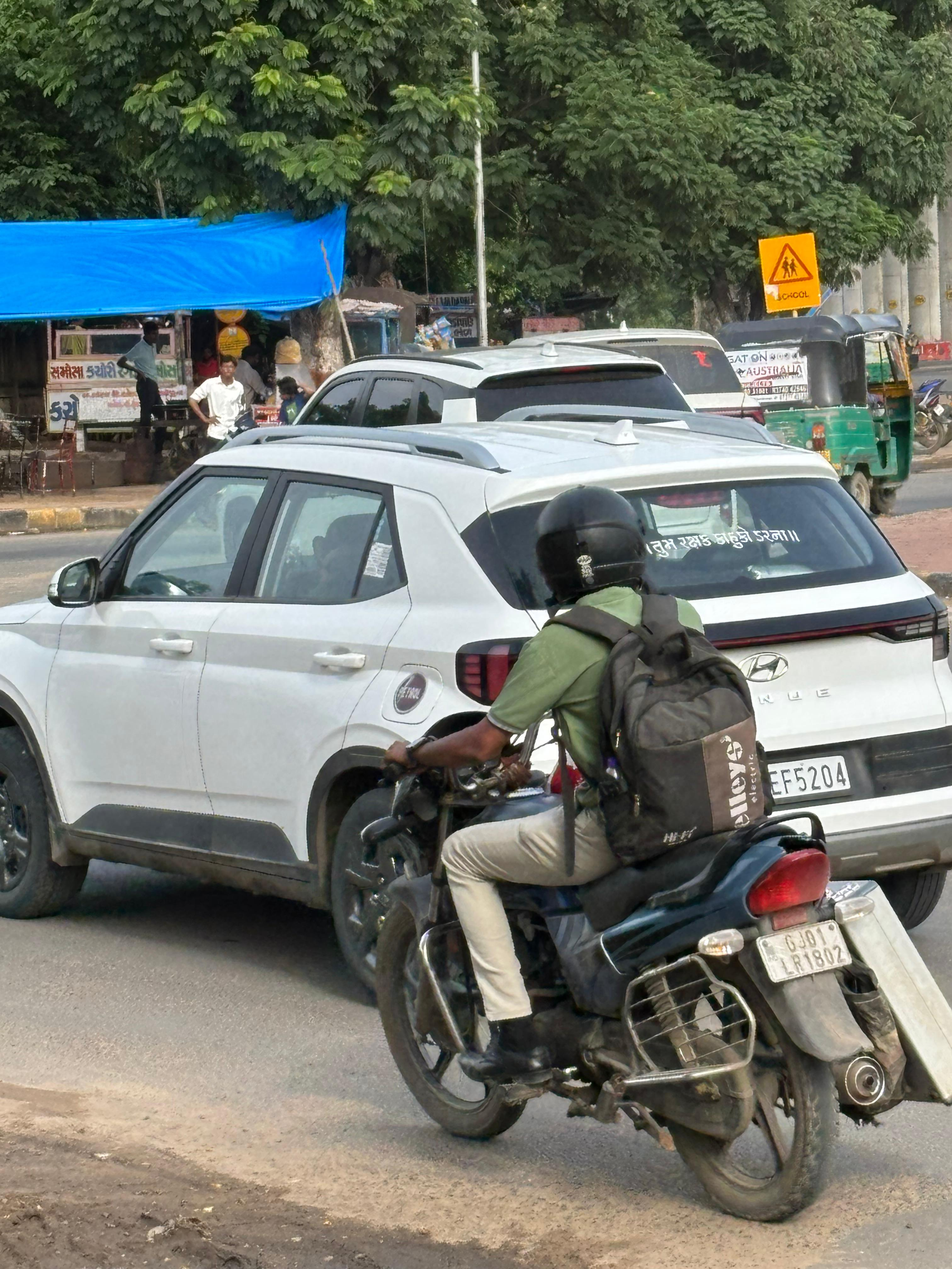BikeWithRider: (355, 470, 900, 1230)
Helmet: (524, 473, 662, 606)
